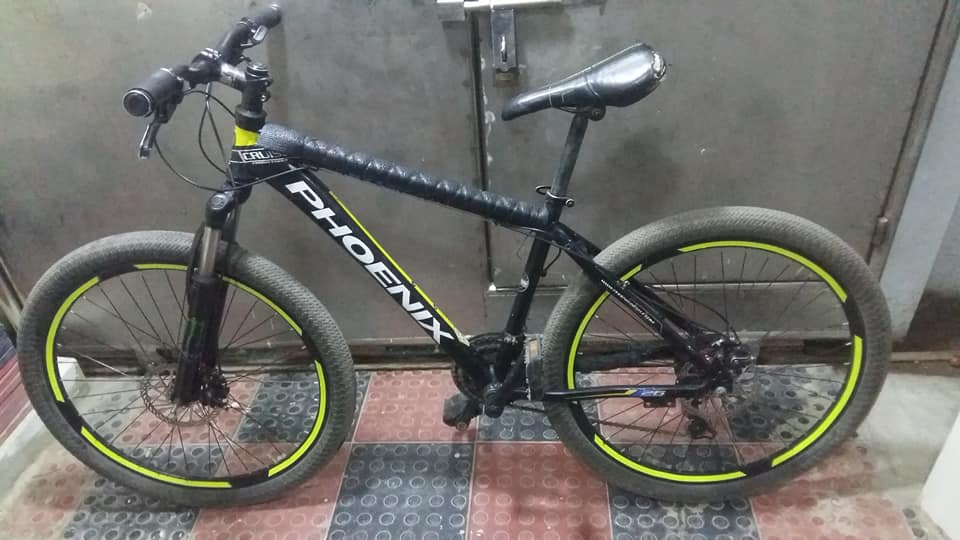bicycle: (21, 4, 915, 514)
